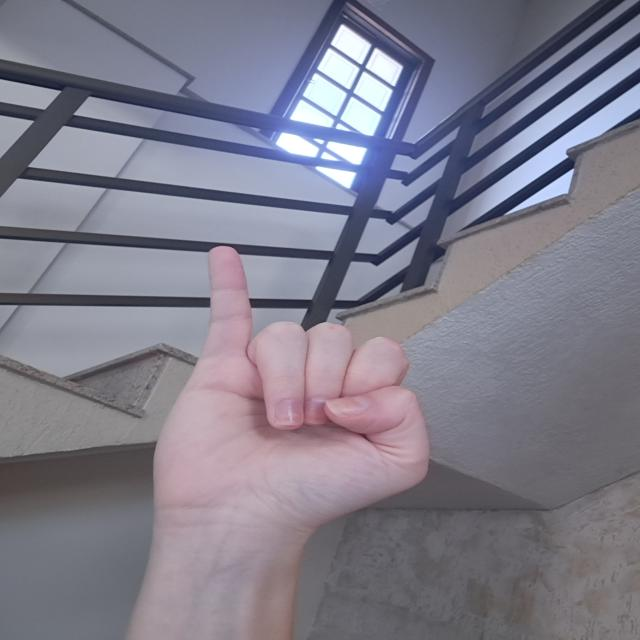I: (144, 241, 436, 545)
